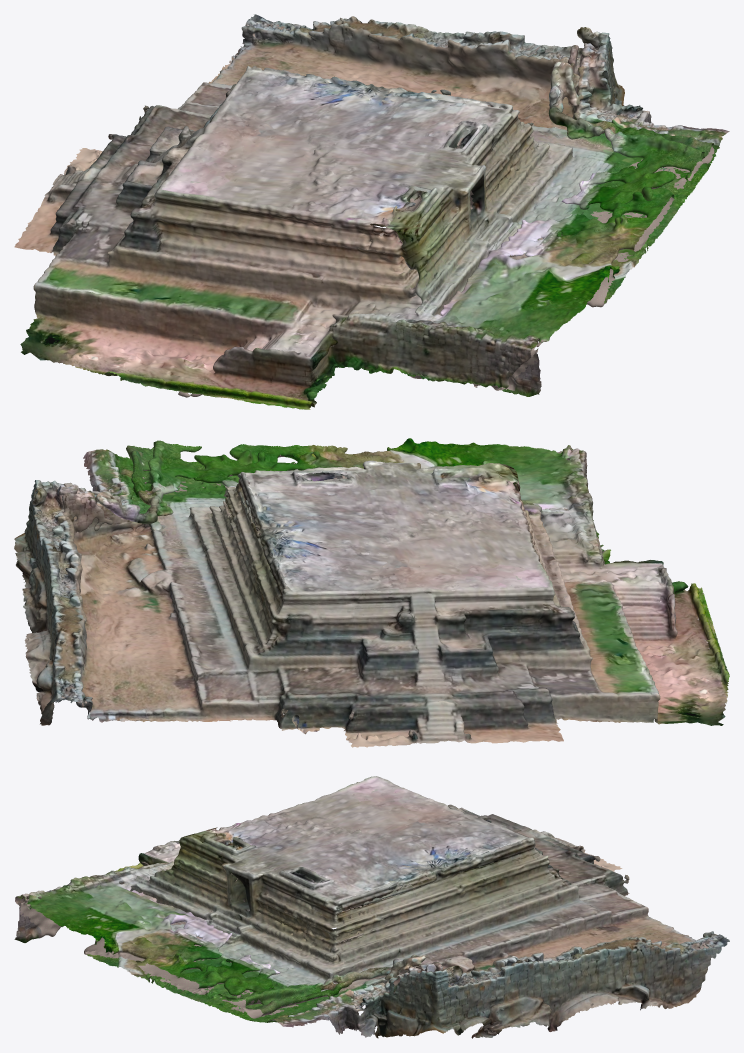
Rendered from Hampi.glb.
The picture shows the model from 3 angles, top to bottom: view 1: azimuth 30°, elevation 25°; view 2: azimuth 150°, elevation 25°; view 3: azimuth 270°, elevation 25°; orthographic projection. The views are drawn at different scales.
Visible parts, largest first — view 1: Object_2, Object_4, Object_3, Object_15, Object_27, Object_26, Object_32, Object_5, Object_31, Object_30, Object_29, Object_28 (+9 smaller); view 2: Object_2, Object_4, Object_3, Object_15, Object_27, Object_26, Object_32, Object_5, Object_30, Object_31, Object_29, Object_6 (+12 smaller); view 3: Object_2, Object_4, Object_15, Object_3, Object_26, Object_27, Object_32, Object_31, Object_5, Object_29, Object_30, Object_6 (+3 smaller).
Boxes of the visible parts, x1,y1,x2,y2 form: Object_2: [14, 16, 725, 401]; Object_4: [34, 14, 715, 401]; Object_3: [20, 24, 712, 409]; Object_15: [56, 21, 729, 408]; Object_27: [50, 20, 721, 404]; Object_26: [29, 21, 708, 401]; Object_32: [42, 19, 729, 406]; Object_5: [64, 21, 713, 396]; Object_31: [69, 25, 708, 399]; Object_30: [72, 18, 692, 405]; Object_29: [66, 19, 711, 395]; Object_28: [75, 22, 706, 393]; Object_2: [14, 440, 727, 745]; Object_4: [31, 438, 721, 747]; Object_3: [25, 442, 729, 743]; Object_15: [17, 447, 710, 746]; Object_27: [18, 440, 717, 745]; Object_26: [28, 445, 720, 743]; Object_32: [22, 452, 724, 718]; Object_5: [39, 444, 710, 728]; Object_30: [52, 439, 723, 721]; Object_31: [34, 443, 723, 739]; Object_29: [37, 445, 699, 743]; Object_6: [16, 441, 707, 740]; Object_2: [15, 776, 726, 1038]; Object_4: [15, 779, 729, 1037]; Object_15: [16, 778, 716, 1037]; Object_3: [58, 776, 692, 1037]; Object_26: [27, 787, 714, 1038]; Object_27: [14, 779, 705, 1033]; Object_32: [50, 791, 708, 1038]; Object_31: [24, 777, 704, 1033]; Object_5: [53, 778, 711, 1023]; Object_29: [17, 780, 687, 1025]; Object_30: [20, 792, 704, 1018]; Object_6: [27, 785, 722, 1027].
Size of the model in its own units: 18.58 by 3.76 by 19.27.
30 materials, 30 textured.
